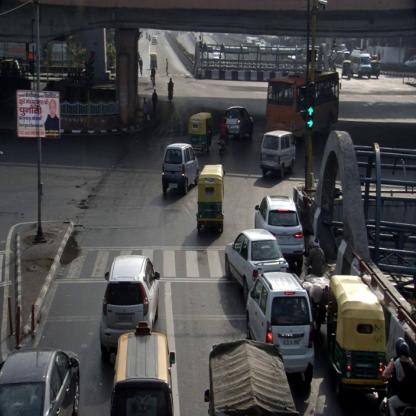bus: (266, 70, 339, 136), (350, 48, 372, 82)
car: (247, 272, 313, 385), (99, 254, 161, 357), (0, 348, 80, 415), (226, 229, 291, 300), (254, 195, 305, 267), (162, 142, 199, 196), (261, 129, 296, 179), (224, 105, 254, 138)
motorcycle: (167, 77, 175, 103), (151, 65, 156, 88)
truck: (206, 342, 298, 416)
